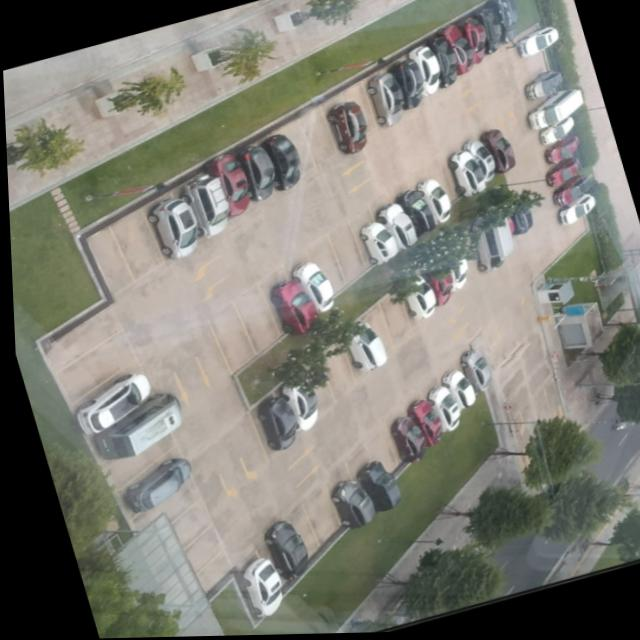car: (90, 393, 177, 460), (71, 374, 146, 435), (121, 459, 186, 513), (178, 174, 227, 239), (144, 199, 194, 259), (202, 155, 246, 217), (267, 281, 314, 336), (259, 522, 302, 581), (235, 560, 276, 618), (351, 462, 396, 513), (259, 135, 298, 192), (526, 92, 580, 132), (326, 482, 370, 530), (254, 398, 293, 452), (288, 263, 330, 313), (325, 103, 365, 155), (235, 147, 272, 202), (365, 74, 402, 129), (275, 379, 313, 432), (344, 323, 383, 374), (392, 191, 432, 240), (374, 205, 414, 252), (474, 223, 510, 275), (445, 152, 482, 199), (389, 61, 422, 112), (481, 0, 518, 45), (406, 47, 439, 97), (387, 412, 422, 458), (403, 401, 437, 448), (426, 38, 456, 90), (357, 224, 394, 266), (423, 387, 456, 434), (441, 27, 472, 77), (478, 131, 513, 175), (400, 274, 431, 321), (415, 181, 448, 225), (436, 372, 471, 412), (461, 142, 493, 185), (514, 29, 558, 60), (454, 352, 487, 393), (457, 19, 485, 67), (473, 9, 501, 57), (550, 177, 588, 208), (555, 197, 592, 228), (523, 73, 560, 102), (420, 272, 449, 308), (544, 160, 578, 189), (542, 138, 577, 166), (536, 120, 571, 147), (508, 211, 529, 238), (448, 261, 465, 293), (504, 219, 512, 236)
freeslot: (146, 521, 220, 605), (134, 496, 209, 578), (36, 303, 121, 375), (93, 424, 175, 496), (123, 475, 198, 552), (159, 547, 229, 626), (104, 207, 165, 284), (200, 298, 254, 378), (226, 280, 279, 358), (79, 223, 133, 299), (322, 220, 366, 288), (311, 337, 354, 405), (294, 483, 337, 550), (289, 354, 331, 421), (300, 235, 345, 297), (294, 106, 337, 170), (274, 117, 315, 180), (374, 285, 412, 352), (354, 301, 391, 364), (279, 504, 316, 564), (341, 82, 376, 141), (357, 425, 395, 478), (509, 54, 546, 93), (446, 240, 476, 287), (553, 218, 586, 255), (429, 165, 455, 208)
